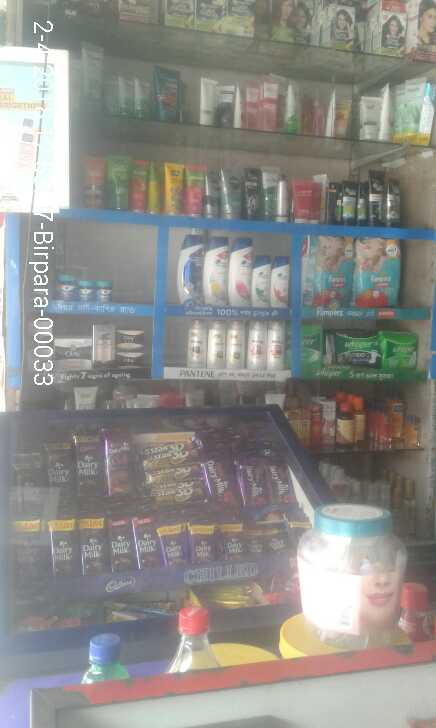vicks: (56, 275, 115, 305)
